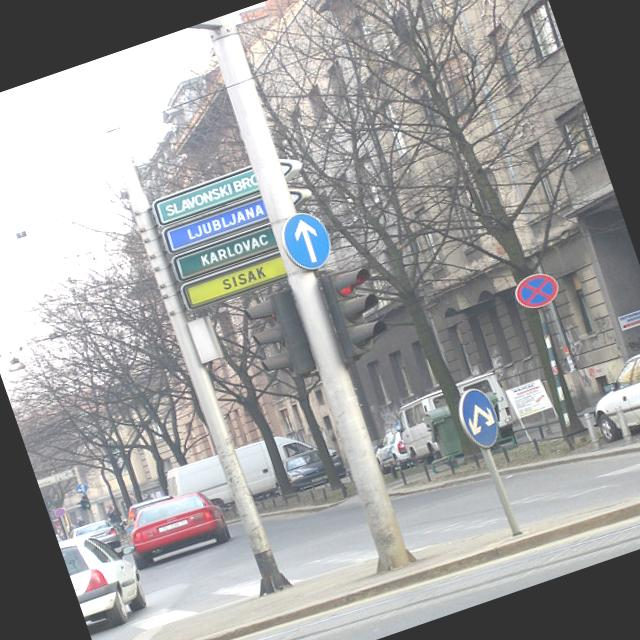Vehicle: (160, 414, 346, 526), (160, 422, 324, 524), (384, 367, 520, 472), (57, 518, 156, 635), (120, 484, 232, 572), (577, 343, 640, 454), (282, 439, 348, 493), (368, 425, 414, 477), (117, 491, 178, 528), (65, 517, 119, 556)
